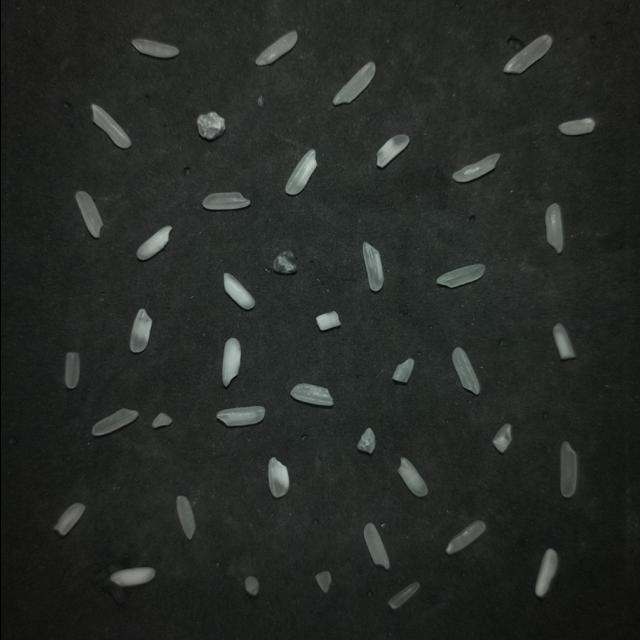broken: (55, 503, 84, 535), (291, 383, 333, 405), (388, 581, 420, 608), (558, 117, 595, 134), (493, 423, 512, 452), (65, 351, 80, 387), (393, 358, 414, 382), (316, 570, 331, 592), (153, 412, 172, 427)
chalky: (286, 149, 317, 194), (453, 153, 500, 181), (137, 225, 172, 259), (224, 272, 255, 309), (398, 457, 427, 496), (535, 548, 558, 597), (377, 134, 409, 167), (363, 241, 384, 290), (130, 308, 152, 352), (222, 337, 241, 386), (268, 456, 289, 497), (111, 566, 155, 585), (553, 323, 575, 359), (315, 311, 340, 331)
foreign: (197, 111, 225, 139), (273, 250, 297, 274), (357, 427, 375, 452), (245, 575, 259, 595)
whole: (504, 34, 552, 72), (333, 61, 375, 104), (92, 104, 131, 147), (256, 30, 297, 64), (446, 520, 485, 554), (92, 408, 139, 435), (76, 190, 103, 237), (453, 347, 480, 394), (436, 263, 485, 287), (364, 522, 389, 568), (216, 405, 265, 425), (560, 441, 577, 496), (132, 38, 179, 57), (545, 203, 563, 252), (203, 191, 250, 209), (177, 495, 195, 538)
